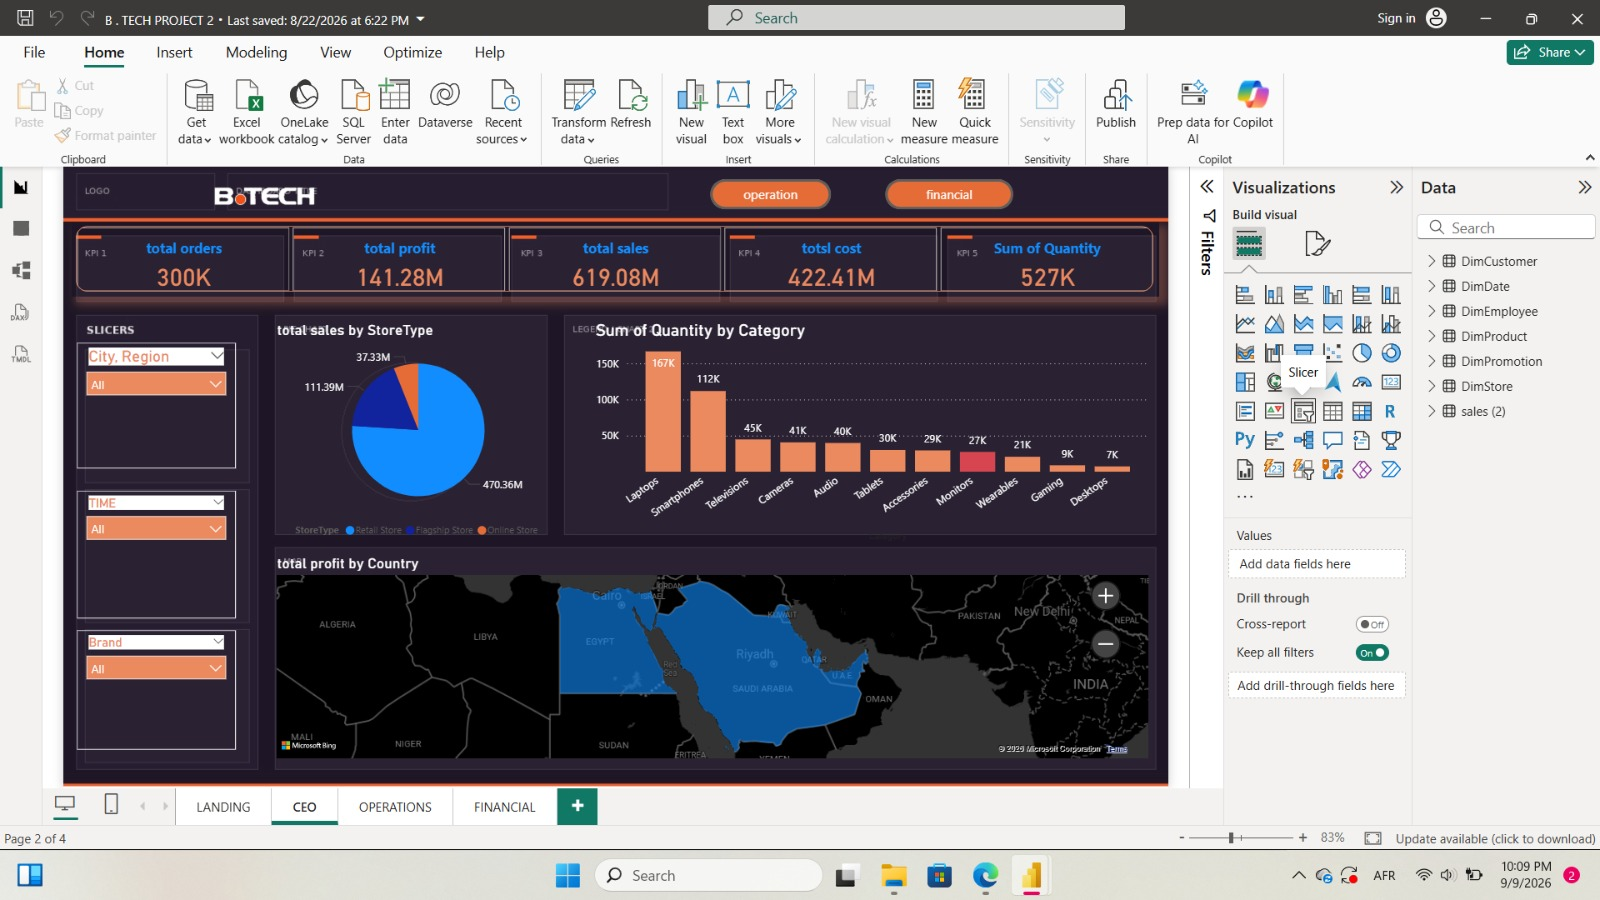

What the dashboard file says about the page in this screenshot:
{"tool":"powerbi","page":{"name":"CEO ","canvas":[1280,720],"ordinal":1},"visuals":[{"type":"cardVisual","fields":{"Data":["sales (2).total orders","sales (2).total profit","sales (2).total sales","sales (2).totsl cost","Sum(sales (2).Quantity)"]},"box":[9.6,64.5,1259.7,86.4],"z":0},{"type":"slicer","fields":{"Values":["DimStore.City Hierarchy.City","DimStore.City Hierarchy.Region"]},"box":[15.1,204.5,183.9,145.5],"z":1000},{"type":"slicer","fields":{"Values":["DimProduct.Brand"]},"box":[15.1,536.5,183.9,138.6],"z":2000},{"type":"slicer","title":"time","fields":{"Values":["DimDate.Year Hierarchy.Year","DimDate.Year Hierarchy.Quarter","DimDate.Year Hierarchy.Month","DimDate.Year Hierarchy.Day"]},"box":[15.1,374.6,183.9,148.2],"z":3000},{"type":"filledMap","fields":{"Category":["DimCustomer.Country"]},"box":[211.3,448.7,1051.1,241.5],"z":4000},{"type":"clusteredColumnChart","title":"     Sum of Quantity by Category","fields":{"Category":["DimProduct.Category"],"Y":["Sum(sales (2).Quantity)"]},"box":[612,178.4,650.4,260.7],"z":5000},{"type":"pieChart","fields":{"Category":["DimStore.StoreType"],"Y":["sales (2).total sales"]},"box":[242.5,178.6,337.8,260.6],"z":6000},{"type":"actionButton","title":"operation","box":[951.9,14.5,148.4,35],"z":8000},{"type":"actionButton","title":"operation","box":[749.2,14.5,139.9,35],"z":9000},{"type":"image","box":[37.1,0,391.4,64.3],"z":10000}]}

Visuals, with their boxes on the page's 1280x720 design canvas (x1, y1, x2, y2). These are canvas units, not pixel positions in the 1600x900 screenshot, which may show the page scaled, cropped or inside an application window:
cardVisual - sales (2).total orders x sales (2).total profit: [x1=10, y1=64, x2=1269, y2=151]
slicer - DimStore.City Hierarchy.City x DimStore.City Hierarchy.Region: [x1=15, y1=204, x2=199, y2=350]
slicer - DimProduct.Brand: [x1=15, y1=536, x2=199, y2=675]
"time" slicer: [x1=15, y1=375, x2=199, y2=523]
filledMap - DimCustomer.Country: [x1=211, y1=449, x2=1262, y2=690]
"     Sum of Quantity by Category" clusteredColumnChart: [x1=612, y1=178, x2=1262, y2=439]
pieChart - DimStore.StoreType x sales (2).total sales: [x1=242, y1=179, x2=580, y2=439]
"operation" actionButton: [x1=952, y1=14, x2=1100, y2=50]
"operation" actionButton: [x1=749, y1=14, x2=889, y2=50]
image: [x1=37, y1=0, x2=428, y2=64]
